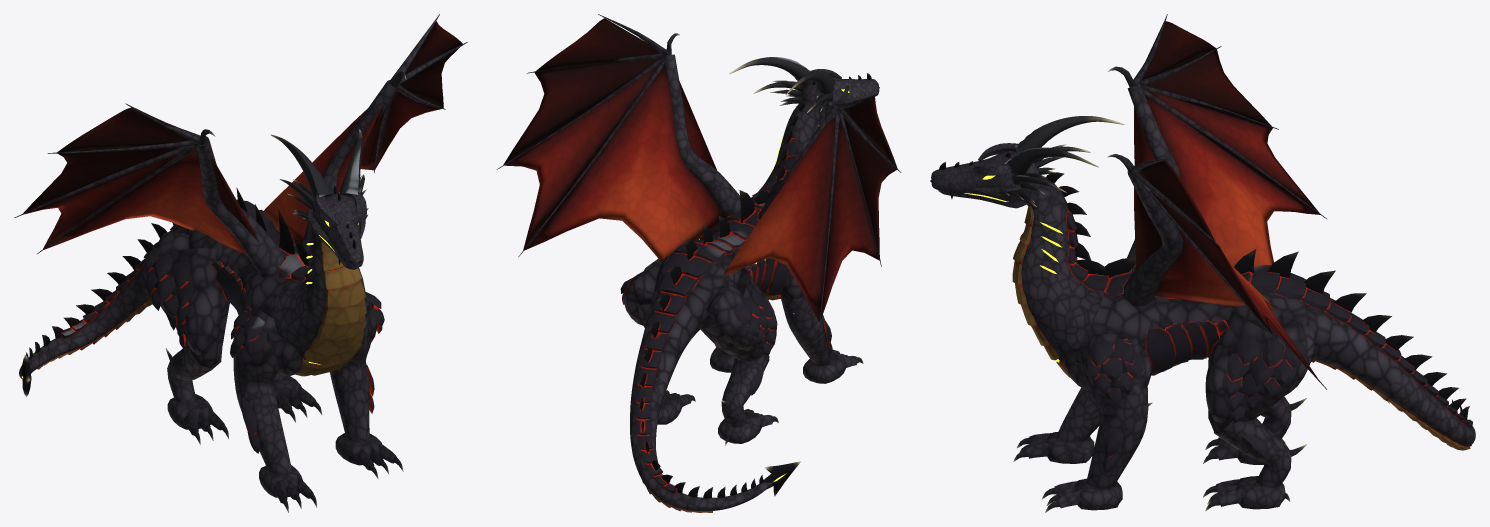
File: dragon.fbx
3 renders of one model, left to right at view 1: azimuth 30°, elevation 25°; view 2: azimuth 150°, elevation 25°; view 3: azimuth 270°, elevation 25°, orthographic. The views are drawn at different scales.
Parts seen in each view (by area): view 1: Dragon_Body; view 2: Dragon_Body; view 3: Dragon_Body.
Boxes of the visible parts, <box> form: Dragon_Body: <box>14,14,467,512</box>; Dragon_Body: <box>496,14,901,512</box>; Dragon_Body: <box>930,14,1475,512</box>.
Bounding box in the file's own units: 11.78 × 10.19 × 12.52.
2 materials, 1 textured.
